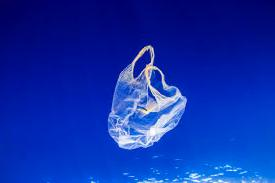Trash: (92, 38, 204, 159)
